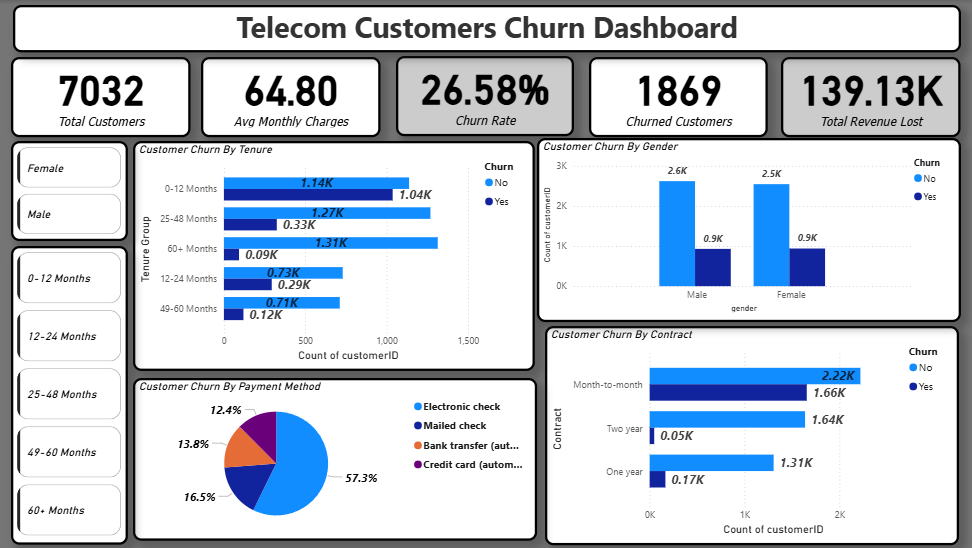

Layout of this report page (visuals, bound fields, positions):
{"tool":"powerbi","page":{"name":"Page 1","canvas":[1280,720],"ordinal":0},"visuals":[{"type":"card","fields":{"Values":["Telecom Customers Churn.Churn Rate"]},"box":[523,72.9,233,104.6],"z":0},{"type":"card","fields":{"Values":["Telecom Customers Churn.Avg Monthly Charges"]},"box":[268.4,74.3,235.4,104.6],"z":1000},{"type":"card","fields":{"Values":["Telecom Customers Churn.Total Customers"]},"box":[19.3,74.3,235.4,104.6],"z":2000},{"type":"card","fields":{"Values":["Telecom Customers Churn.Total Revenue Lost"]},"box":[1028.1,74.3,235.4,104.6],"z":3000},{"type":"card","fields":{"Values":["Telecom Customers Churn.Churned Customers"]},"box":[776.3,74.3,234,104.6],"z":4000},{"type":"clusteredBarChart","title":"Customer Churn By Contract","fields":{"Series":["Telecom Customers Churn.Churn"],"Y":["CountNonNull(Telecom Customers Churn.customerID)"],"Category":["Telecom Customers Churn.Contract"]},"box":[718.5,426.1,542.2,286.5],"z":5000},{"type":"clusteredBarChart","title":"Customer Churn By Tenure","fields":{"Y":["CountNonNull(Telecom Customers Churn.customerID)"],"Series":["Telecom Customers Churn.Churn"],"Category":["Telecom Customers Churn.Tenure Group"]},"box":[179.3,185.1,526,301.2],"z":6000},{"type":"pieChart","title":"Customer Churn By Payment Method","fields":{"Y":["Telecom Customers Churn.Churned Customers"],"Category":["Telecom Customers Churn.PaymentMethod"]},"box":[179.3,495.2,529,213.1],"z":7000},{"type":"clusteredColumnChart","title":"Customer Churn By Gender","fields":{"Category":["Telecom Customers Churn.gender"],"Series":["Telecom Customers Churn.Churn"],"Y":["CountNonNull(Telecom Customers Churn.customerID)"]},"box":[708.2,180.7,555.4,241],"z":8000},{"type":"advancedSlicerVisual","fields":{"Values":["Telecom Customers Churn.gender"]},"box":[19.1,185.1,152.8,130.8],"z":9000},{"type":"advancedSlicerVisual","fields":{"Values":["Telecom Customers Churn.Tenure Group"]},"box":[19.1,321.8,152.8,390.9],"z":10000},{"type":"textbox","box":[22,6.9,1241.5,61.9],"z":11000}]}

Visuals, with their boxes in screenshot pixels (x1, y1, x2, y2), scaled from the page's 1280x720 canvas onto the 972x548 screenshot:
card - Telecom Customers Churn.Churn Rate: BBox(397, 55, 574, 135)
card - Telecom Customers Churn.Avg Monthly Charges: BBox(204, 57, 383, 136)
card - Telecom Customers Churn.Total Customers: BBox(15, 57, 193, 136)
card - Telecom Customers Churn.Total Revenue Lost: BBox(781, 57, 959, 136)
card - Telecom Customers Churn.Churned Customers: BBox(590, 57, 767, 136)
"Customer Churn By Contract" clusteredBarChart: BBox(546, 324, 957, 542)
"Customer Churn By Tenure" clusteredBarChart: BBox(136, 141, 536, 370)
"Customer Churn By Payment Method" pieChart: BBox(136, 377, 538, 539)
"Customer Churn By Gender" clusteredColumnChart: BBox(538, 138, 960, 321)
advancedSlicerVisual - Telecom Customers Churn.gender: BBox(15, 141, 131, 240)
advancedSlicerVisual - Telecom Customers Churn.Tenure Group: BBox(15, 245, 131, 542)
textbox: BBox(17, 5, 959, 52)
